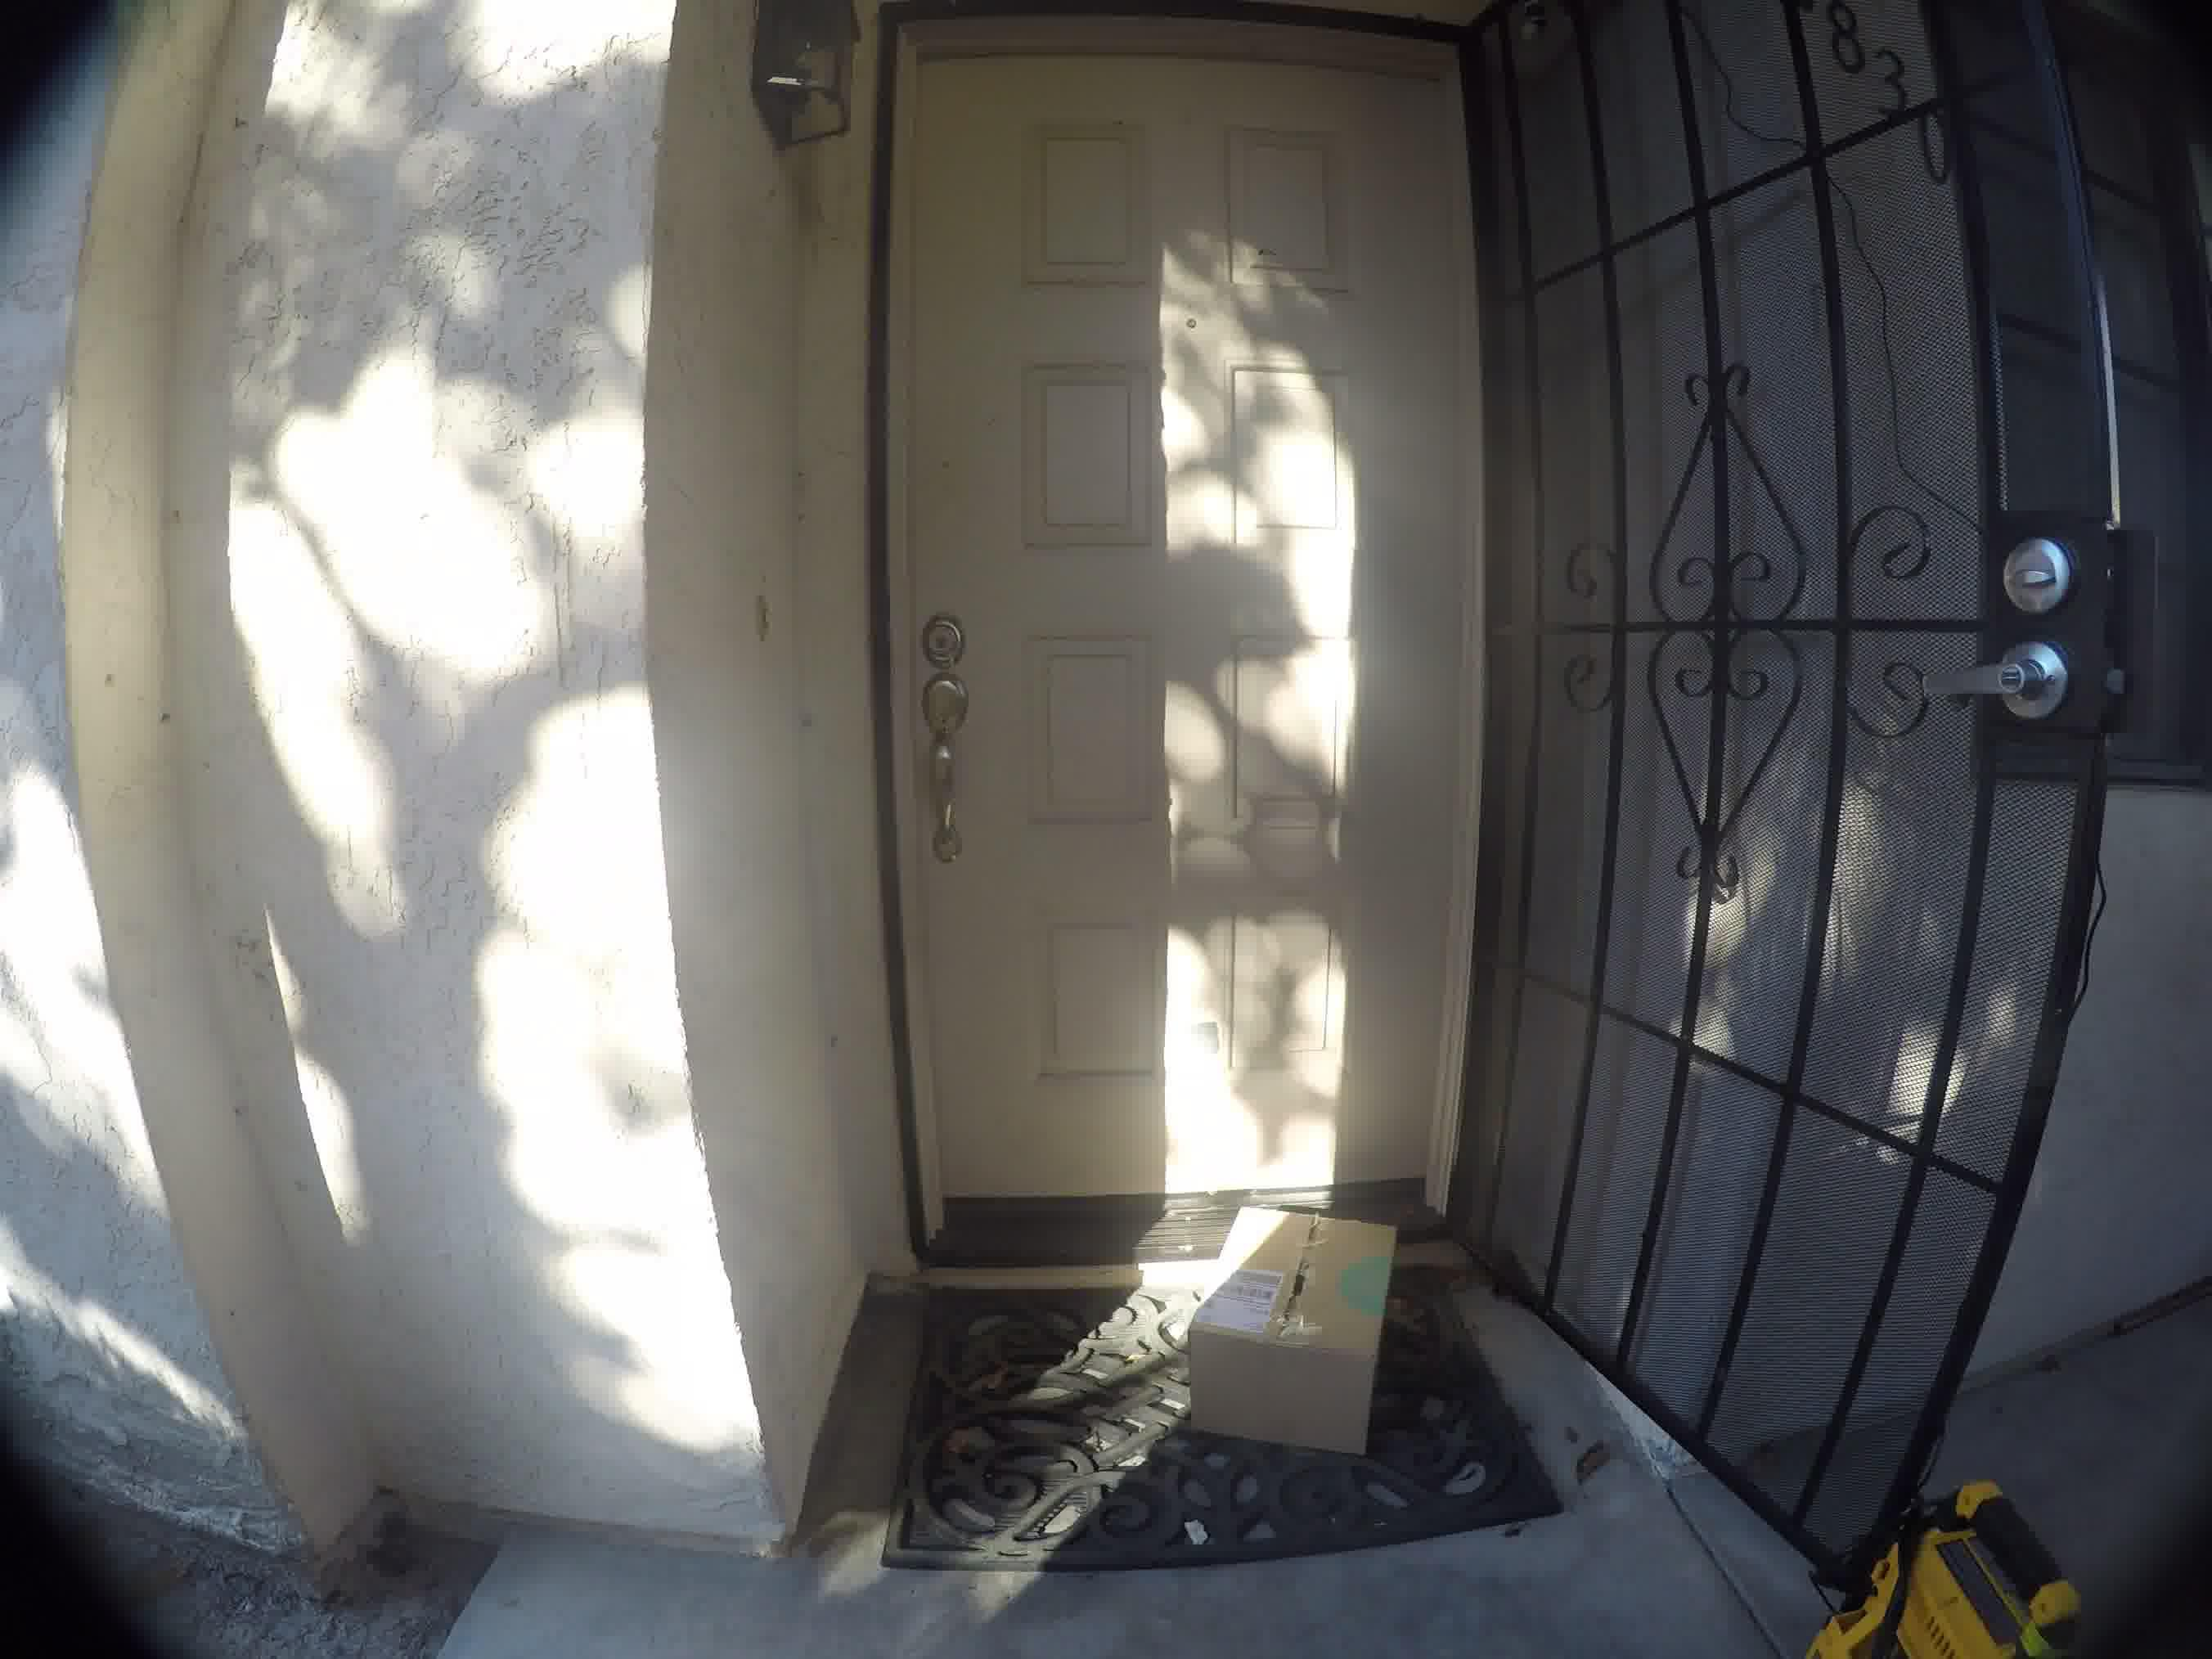box: (1207, 1159, 1418, 1467)
